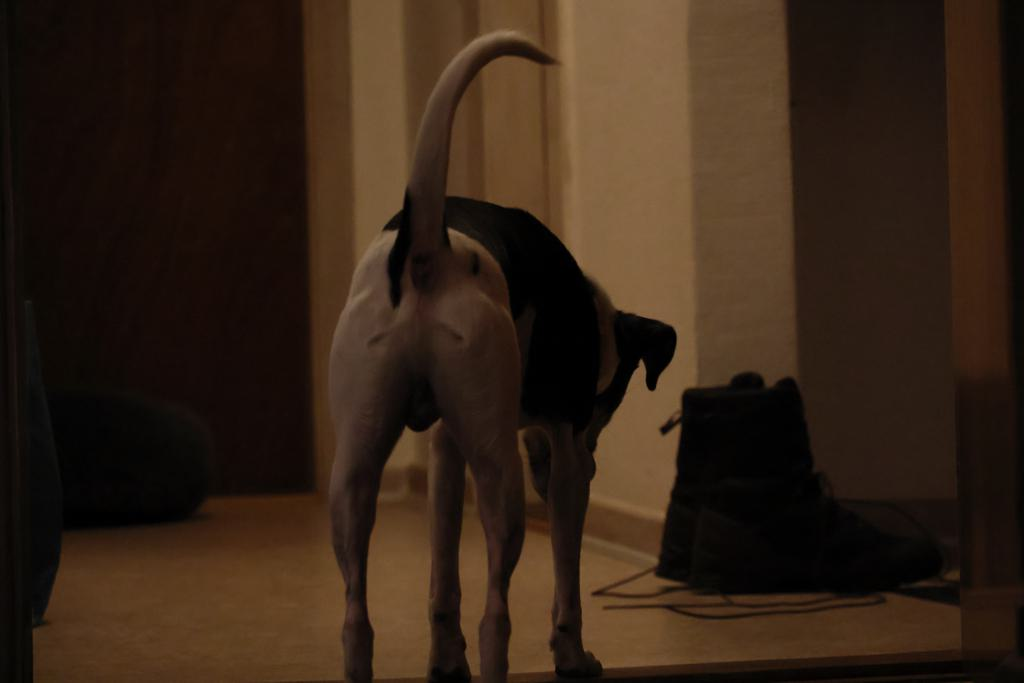Dog: (320, 27, 682, 683)
